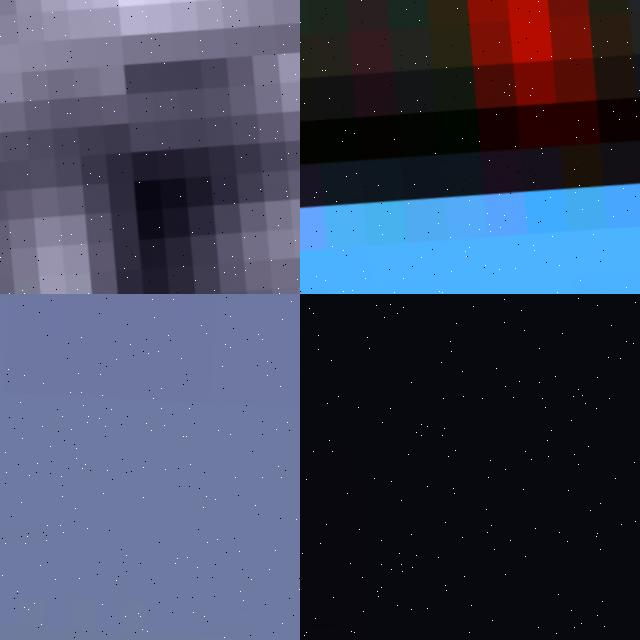drone: (300, 294, 640, 640), (300, 0, 640, 294), (0, 0, 300, 294)
